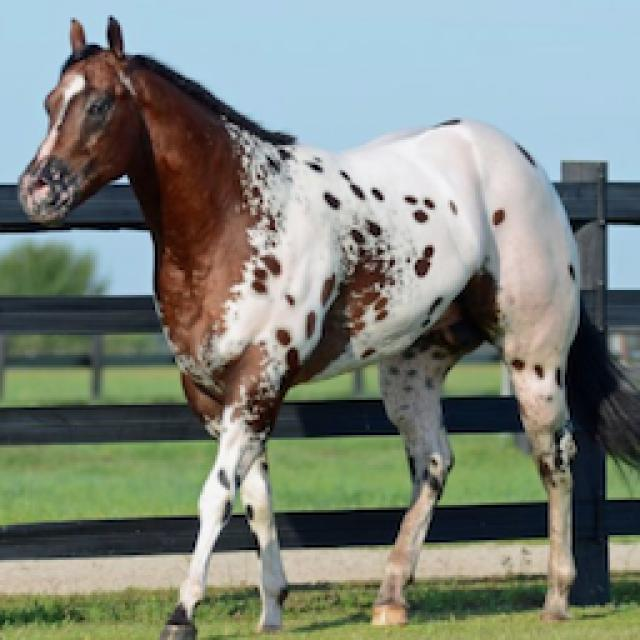Horse: (12, 12, 638, 638)
